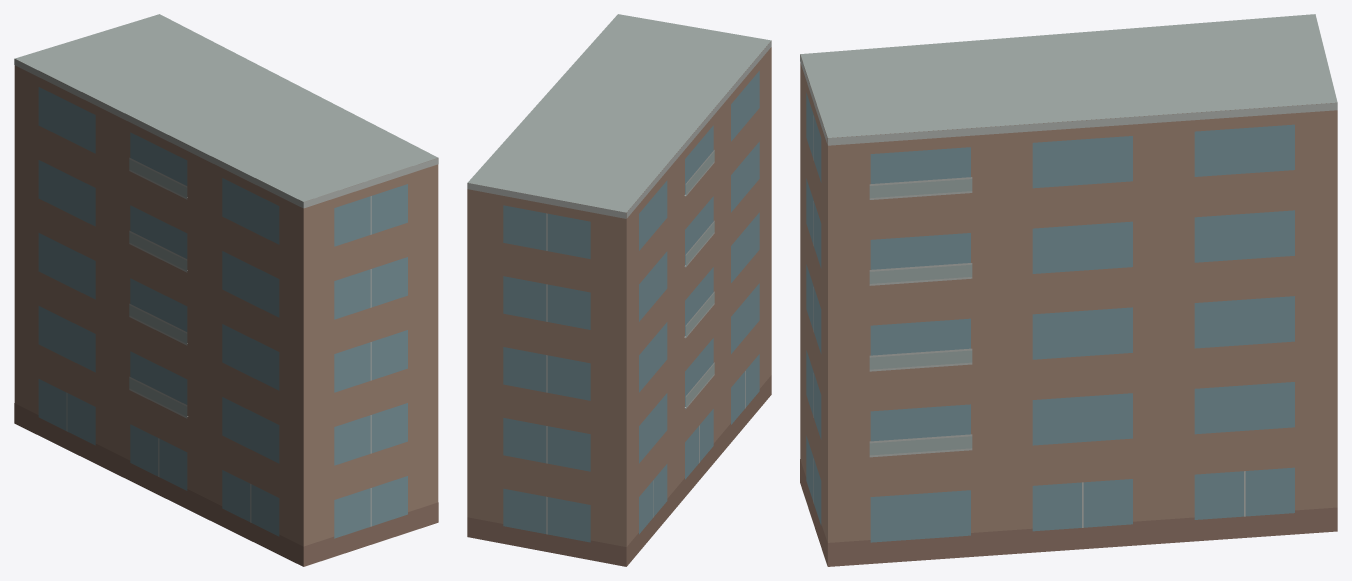
File: survey-upis-32729385.glb
3 views of the same model, side by side, from view 1: azimuth 30°, elevation 25°; view 2: azimuth 150°, elevation 25°; view 3: azimuth 270°, elevation 25° (orthographic). The views are drawn at different scales.
Visible parts, largest first — view 1: survey-upis-32729385.tmp; view 2: survey-upis-32729385.tmp; view 3: survey-upis-32729385.tmp.
Boxes of the visible parts, x1,y1,x2,y2 form: survey-upis-32729385.tmp: [14, 14, 438, 566]; survey-upis-32729385.tmp: [467, 14, 771, 566]; survey-upis-32729385.tmp: [800, 14, 1337, 566].
Size of the model in its own units: 8.51 by 13.7 by 15.57.
